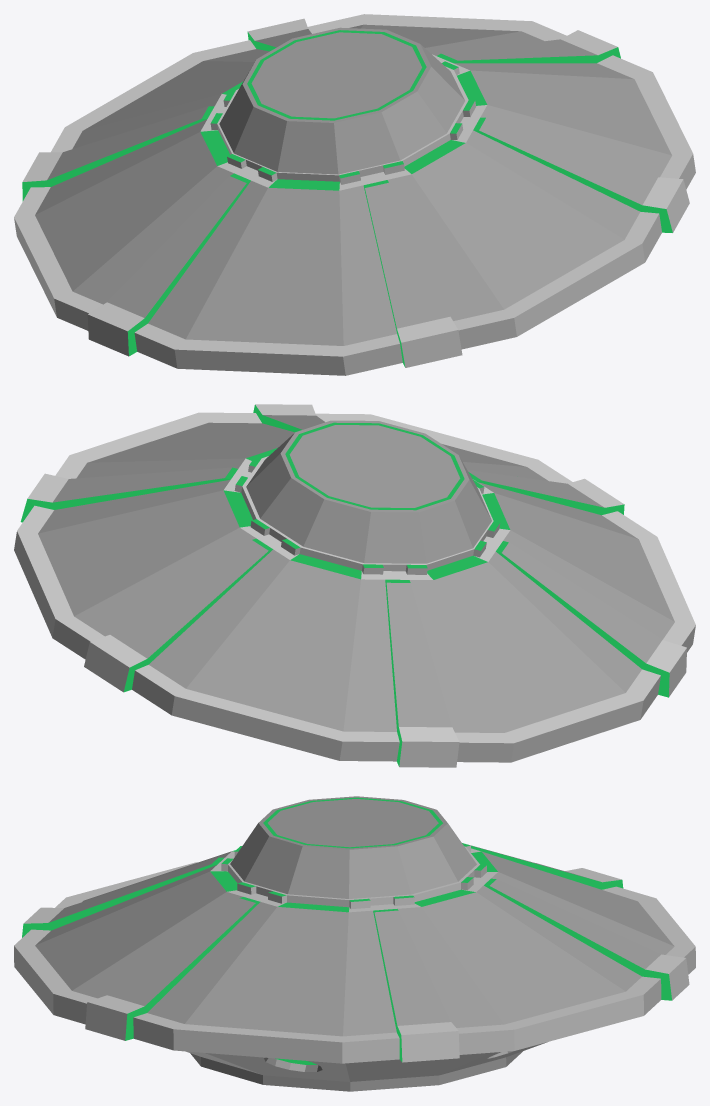
The model's file is ufo.glb.
The picture shows the model from 3 angles, top to bottom: view 1: azimuth 30°, elevation 25°; view 2: azimuth 150°, elevation 25°; view 3: azimuth 270°, elevation 25°; orthographic projection.
Visible parts, largest first — view 1: ufo; view 2: ufo; view 3: ufo.
Boxes of the visible parts, left/top/right/bottom form: ufo: left=14, top=14, right=695, bottom=375; ufo: left=14, top=404, right=695, bottom=767; ufo: left=14, top=796, right=695, bottom=1091.
Bounding box in the file's own units: 1.99 × 0.7923 × 2.
